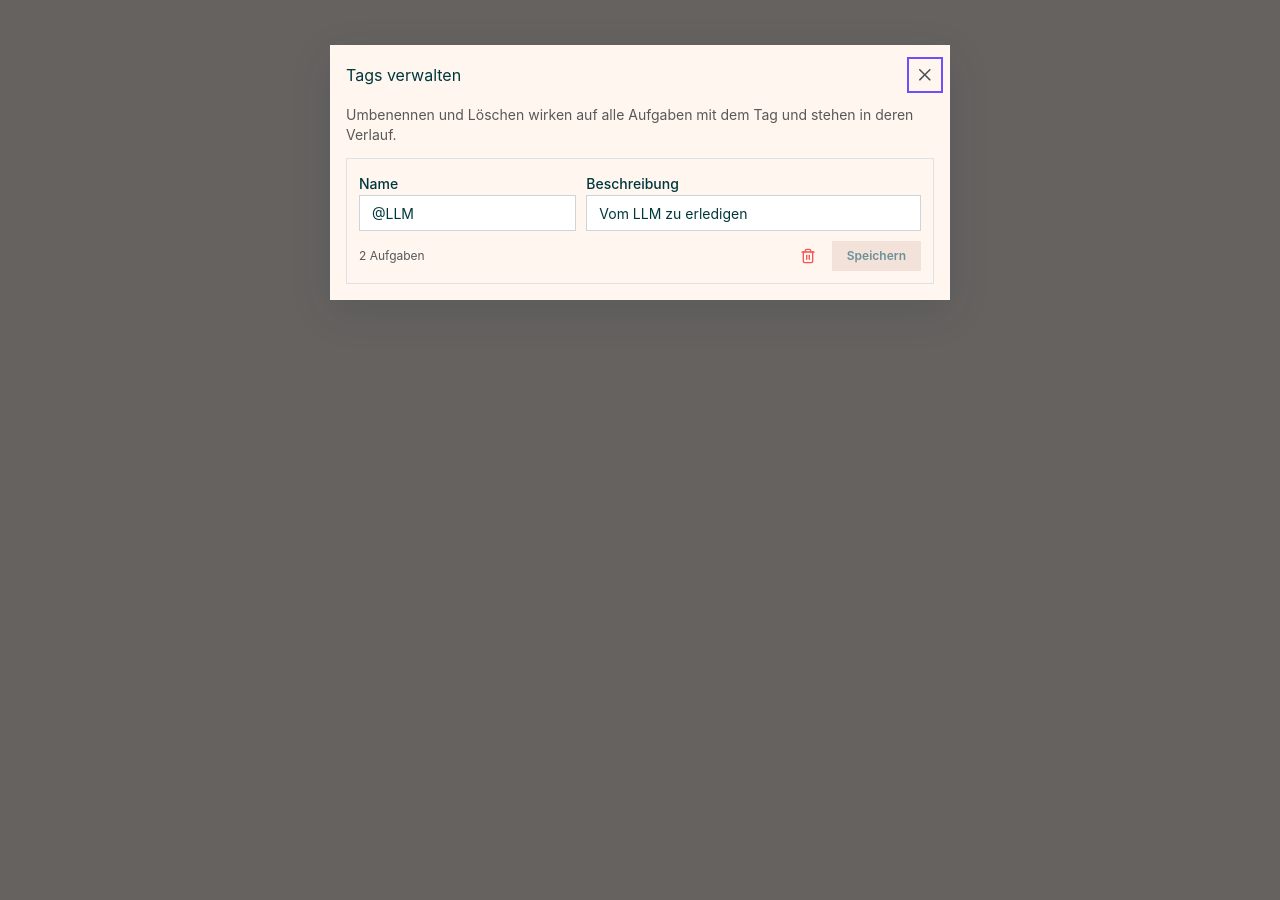
Test case: TagManagerModal › shows a conflict when the name is taken
Step 1. Type "x" into the field labelled "Name" → (468,213), box left=359, top=195, right=576, bottom=231
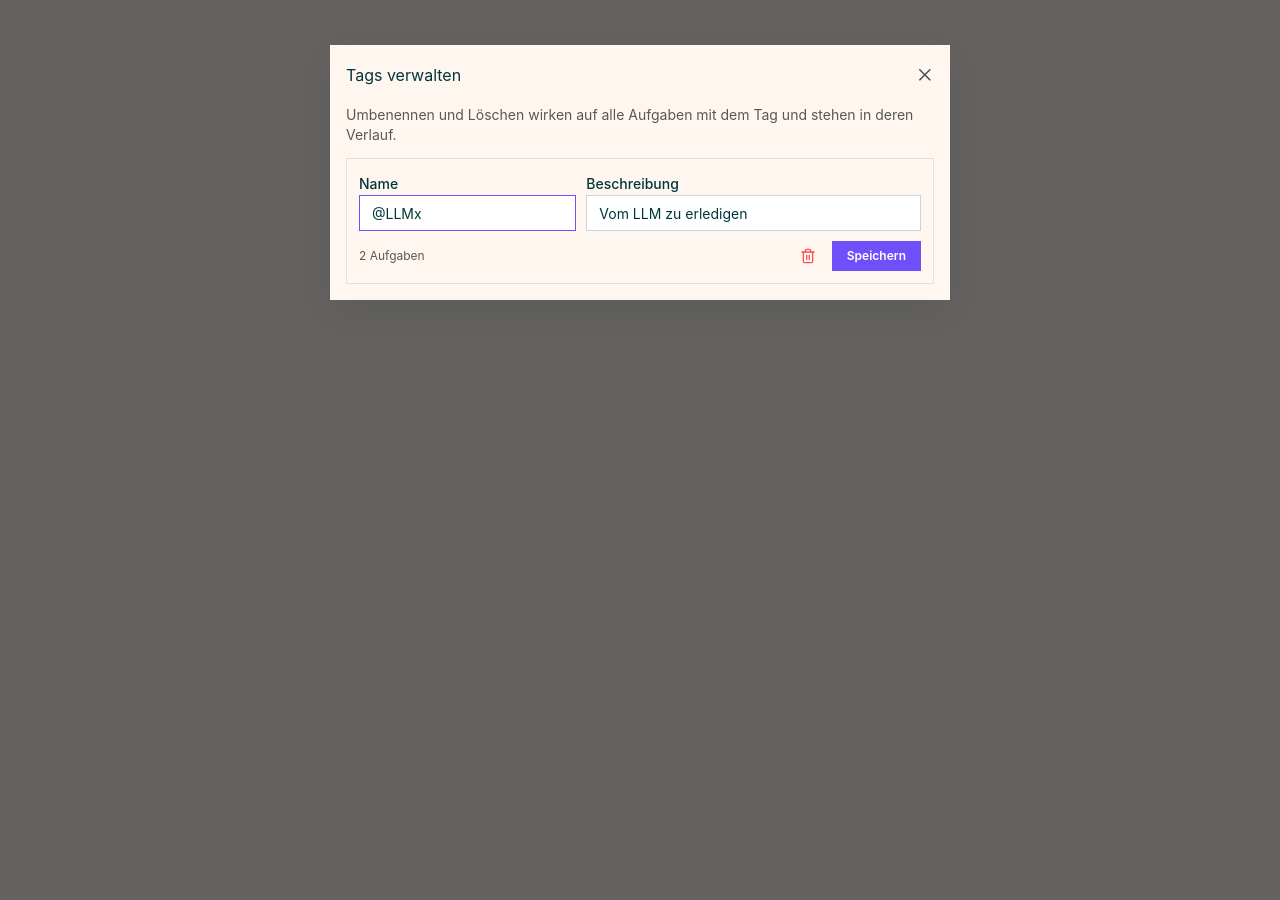
Step 2. Click the button "Speichern" → (876,256), box left=832, top=241, right=921, bottom=271
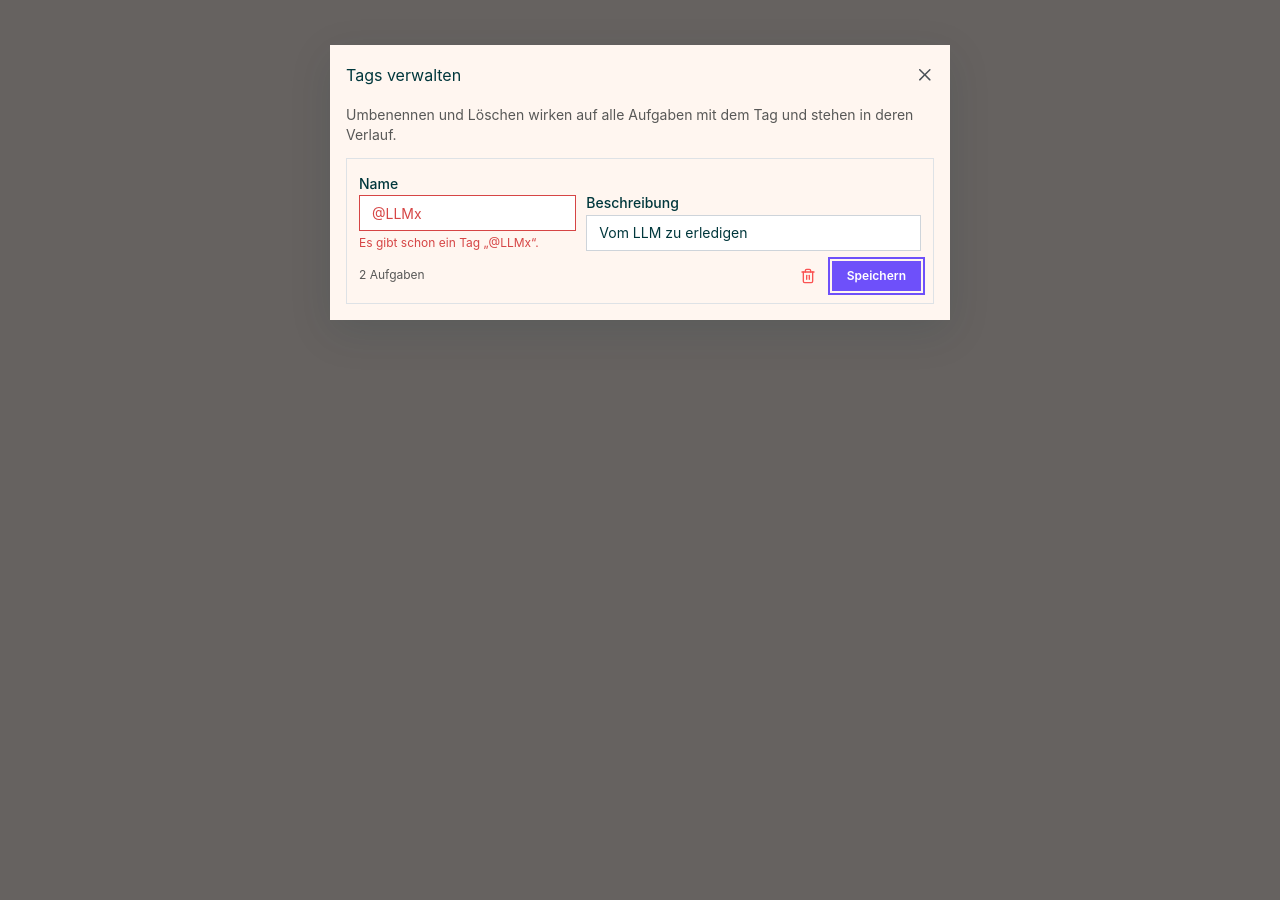
Now the text "Es gibt schon ein Tag „@LLMx“." is shown, box left=359, top=235, right=539, bottom=250
